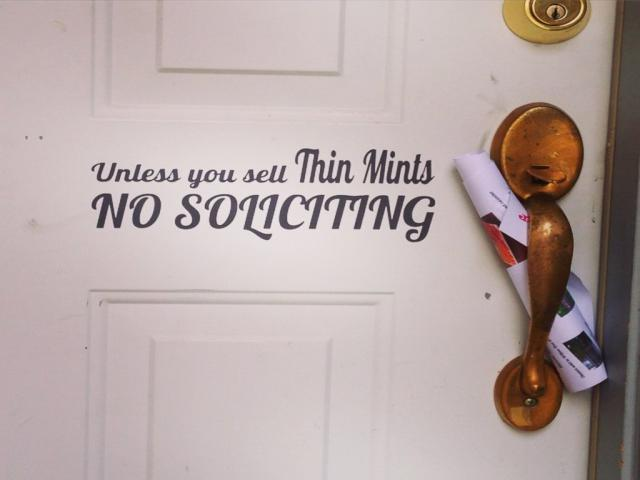Door-handle: (488, 101, 586, 434)
